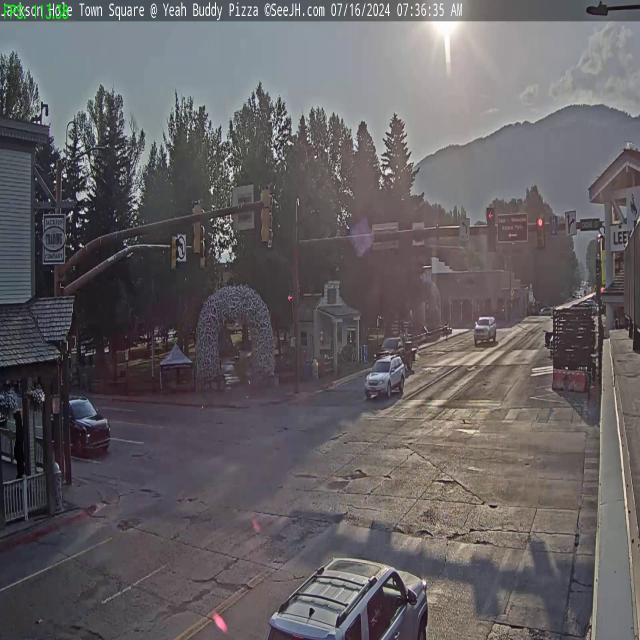pickup: (376, 332, 418, 372)
suv: (262, 551, 433, 640), (44, 395, 110, 458), (364, 351, 405, 400), (472, 314, 497, 346)
traffic light: (261, 183, 273, 244), (190, 200, 203, 256), (486, 208, 496, 255), (170, 233, 180, 272), (536, 215, 544, 248)
